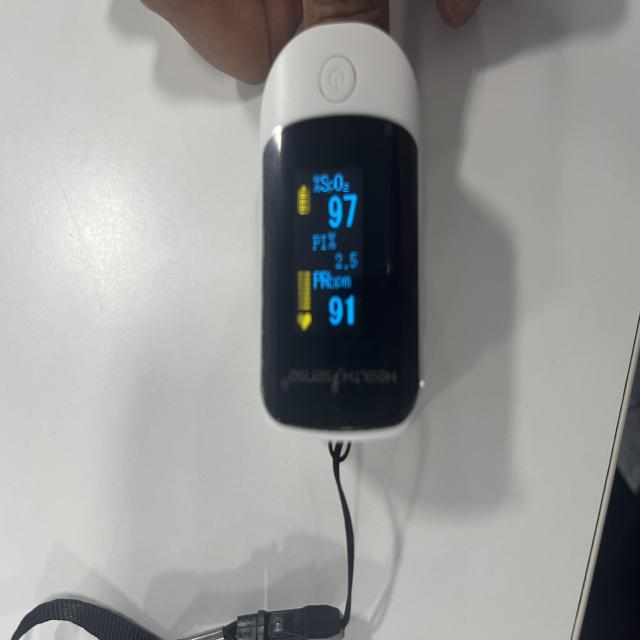spo2: (258, 19, 422, 437)
